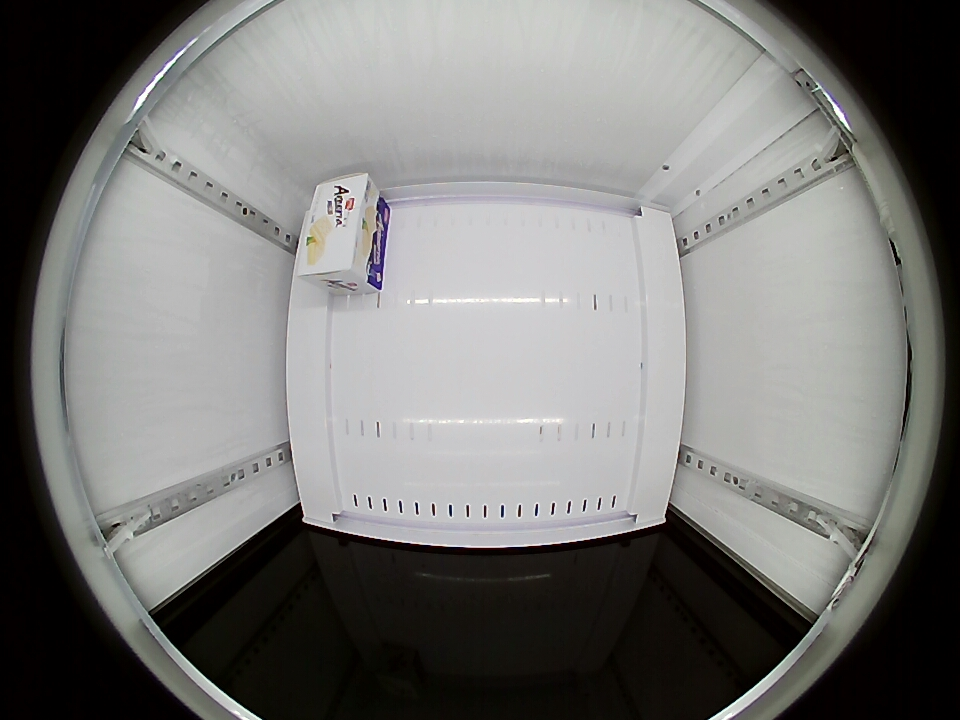meiniye: (296, 173, 382, 290)
